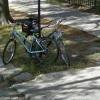Bicycle: (5, 23, 71, 76)
